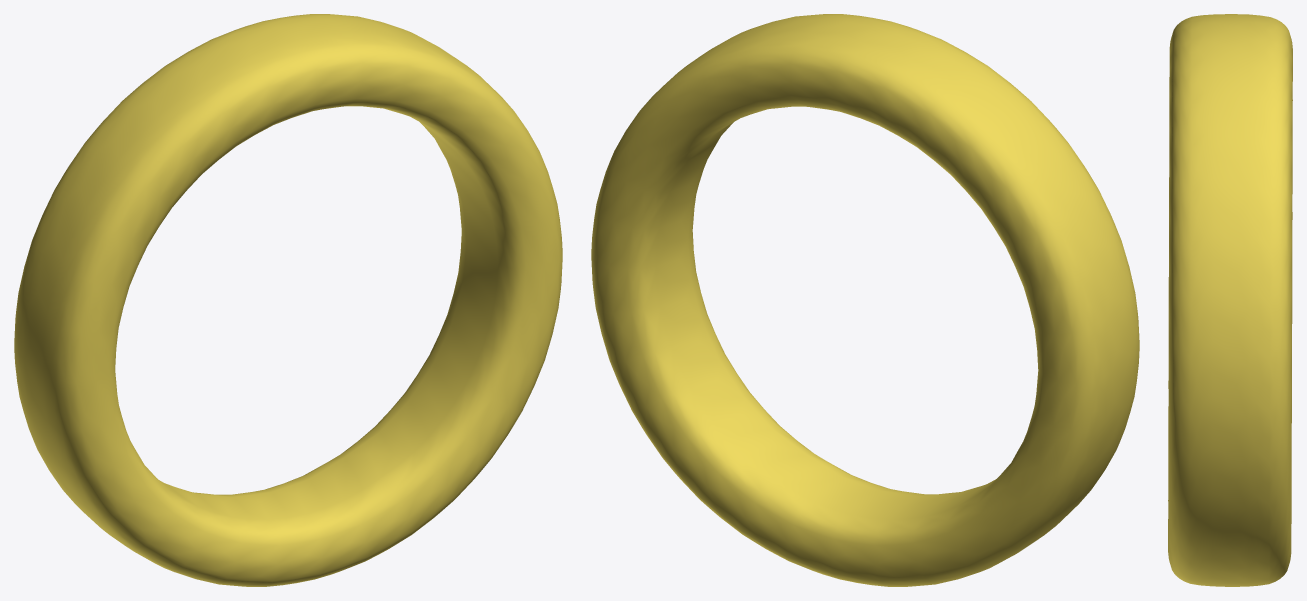
File: scene-model-ring.glb
3 renders of one model, left to right at view 1: azimuth 30°, elevation 25°; view 2: azimuth 150°, elevation 25°; view 3: azimuth 270°, elevation 25°, orthographic. The views are drawn at different scales.
Visible parts, largest first — view 1: Box001; view 2: Box001; view 3: Box001.
Boxes of the visible parts, bbox=[...] form: Box001: bbox=[14, 14, 562, 586]; Box001: bbox=[591, 14, 1139, 586]; Box001: bbox=[1168, 14, 1292, 586].
Size of the model in its own units: 0.1681 by 0.1681 by 0.0366.
